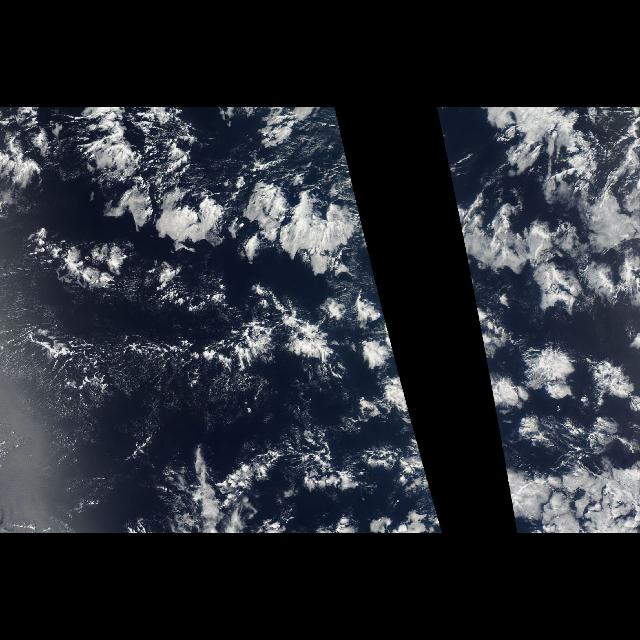Flower: (61, 110, 441, 520), (436, 110, 640, 520)
Sugar: (2, 282, 258, 480)
